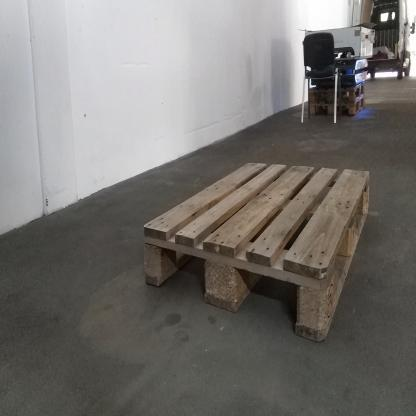BoxFace: (141, 157, 373, 349)
